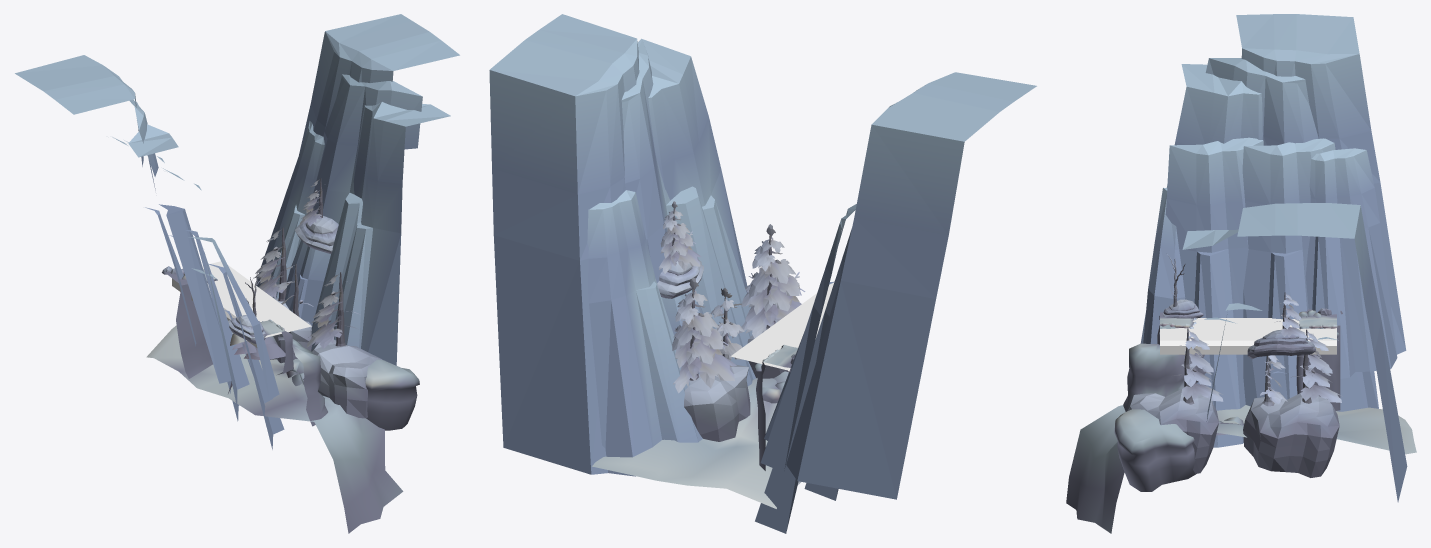
Rendered from Arctic_Narrows_Right_Jump_A.glb.
3 views of the same model, side by side, from view 1: azimuth 30°, elevation 25°; view 2: azimuth 150°, elevation 25°; view 3: azimuth 270°, elevation 25° (orthographic). The views are drawn at different scales.
Visible parts, largest first — view 1: Arctic_Narrows_Left_IceWall_A01 (1), Arctic_Narrows_Right_Jump_A, Arctic_Narrows_Right_IceWall_A02 (1), Arctic_Narrows_Left_IceWall_A01_Left, Arctic_Narrows_SnowRock_A01, inv_fill, Arctic_Narrows_Left_IceWall_A01_Mid, Arctic_Narrows_Right_IceWall_A02_Left, Arctic_Narrows_Right_IceWall_A02_Right (2), Arctic_Narrows_SnowRock_A01 (1), Arctic_Pine_A_leavesBottom, Arctic_Narrows_Right_IceWall_A02_Right; view 2: Arctic_Narrows_Left_IceWall_A01 (1), Arctic_Narrows_Right_IceWall_A02 (1), Arctic_Narrows_Left_IceWall_A01_Left, Arctic_Narrows_Right_Jump_A, Arctic_Narrows_Right_IceWall_A02_Right, Arctic_Narrows_SnowRock_A01 (1), Arctic_Pine_A_leavesBottom (×3), Arctic_Narrows_Right_IceWall_A02_Right (1), Arctic_Pine_A_leavesMiddle (×2), inv_fill, Arctic_Pine_A_leavesTop (×2); view 3: Arctic_Narrows_Right_IceWall_A02 (1), Arctic_Narrows_Right_Jump_A, Arctic_Narrows_Right_IceWall_A02_Right (2), Arctic_Narrows_Right_IceWall_A02_Right (1), Arctic_Narrows_Right_IceWall_A02_Right, Arctic_Narrows_Left_IceWall_A01 (1), Arctic_Narrows_SnowRock_A01 (1), inv_fill, Arctic_Narrows_Right_IceWall_A02_Left, Arctic_Narrows_SnowRock_A01, Arctic_Pine_A_leavesBottom (×2), Arctic_Narrows_Right_Snow_A01.
Part boxes in pixels (<box>): Arctic_Narrows_Left_IceWall_A01 (1): <box>299,14,459,365</box>; Arctic_Narrows_Right_Jump_A: <box>146,268,419,533</box>; Arctic_Narrows_Right_IceWall_A02 (1): <box>15,55,249,407</box>; Arctic_Narrows_Left_IceWall_A01_Left: <box>255,121,324,298</box>; Arctic_Narrows_SnowRock_A01: <box>312,339,382,418</box>; inv_fill: <box>172,261,311,347</box>; Arctic_Narrows_Left_IceWall_A01_Mid: <box>284,240,330,325</box>; Arctic_Narrows_Right_IceWall_A02_Left: <box>188,237,279,399</box>; Arctic_Narrows_Right_IceWall_A02_Right (2): <box>163,168,284,449</box>; Arctic_Narrows_SnowRock_A01 (1): <box>270,298,312,363</box>; Arctic_Pine_A_leavesBottom: <box>306,311,360,348</box>; Arctic_Narrows_Right_IceWall_A02_Right: <box>112,137,196,346</box>; Arctic_Narrows_Left_IceWall_A01 (1): <box>489,14,755,474</box>; Arctic_Narrows_Right_IceWall_A02 (1): <box>786,72,1036,499</box>; Arctic_Narrows_Left_IceWall_A01_Left: <box>587,190,702,476</box>; Arctic_Narrows_Right_Jump_A: <box>592,303,800,508</box>; Arctic_Narrows_Right_IceWall_A02_Right: <box>760,204,856,472</box>; Arctic_Narrows_SnowRock_A01 (1): <box>684,364,750,441</box>; Arctic_Pine_A_leavesBottom (×3): <box>659,240,801,393</box>; Arctic_Narrows_Right_IceWall_A02_Right (1): <box>755,228,851,533</box>; Arctic_Pine_A_leavesMiddle (×2): <box>672,272,805,364</box>; inv_fill: <box>730,280,834,371</box>; Arctic_Pine_A_leavesTop (×2): <box>675,224,796,336</box>; Arctic_Narrows_Right_IceWall_A02 (1): <box>1140,14,1406,354</box>; Arctic_Narrows_Right_Jump_A: <box>1066,309,1416,533</box>; Arctic_Narrows_Right_IceWall_A02_Right (2): <box>1165,137,1263,447</box>; Arctic_Narrows_Right_IceWall_A02_Right (1): <box>1242,138,1378,411</box>; Arctic_Narrows_Right_IceWall_A02_Right: <box>1305,148,1397,378</box>; Arctic_Narrows_Left_IceWall_A01 (1): <box>1182,203,1407,502</box>; Arctic_Narrows_SnowRock_A01 (1): <box>1243,393,1339,477</box>; inv_fill: <box>1160,318,1336,354</box>; Arctic_Narrows_Right_IceWall_A02_Left: <box>1143,187,1185,343</box>; Arctic_Narrows_SnowRock_A01: <box>1126,388,1218,473</box>; Arctic_Pine_A_leavesBottom (×2): <box>1174,364,1342,402</box>; Arctic_Narrows_Right_Snow_A01: <box>1247,340,1315,359</box>.
Size of what is drawn, in the model's own units: 26.66 by 26.53 by 21.17.
